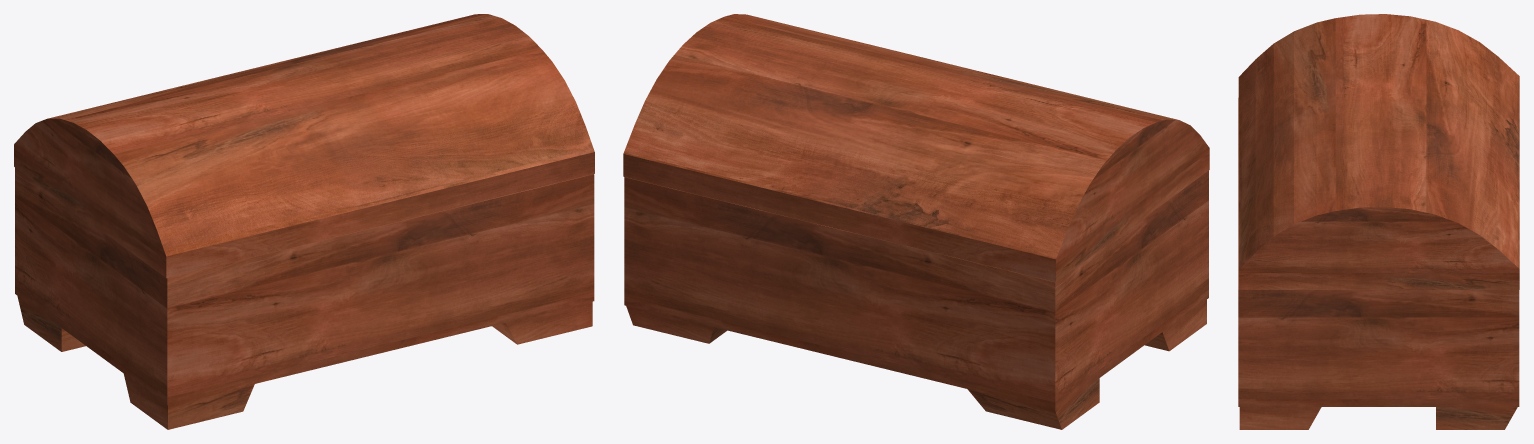
Rendered from marblerunChest.DAE.
3 renders of one model, left to right at view 1: azimuth 30°, elevation 25°; view 2: azimuth 150°, elevation 25°; view 3: azimuth 270°, elevation 25°, orthographic. The views are drawn at different scales.
Parts seen in each view (by area): view 1: chest_top, chest; view 2: chest_top, chest; view 3: chest_top, chest.
Boxes of the visible parts, x1,y1,x2,y2 form: chest_top: (14, 14, 594, 278); chest: (15, 167, 594, 429); chest_top: (623, 14, 1209, 281); chest: (624, 171, 1208, 429); chest_top: (1238, 14, 1519, 289); chest: (1238, 98, 1519, 429).
Size of the model in its own units: 1.57 by 0.9677 by 0.85.
Materials: 1 (1 with a texture image).
